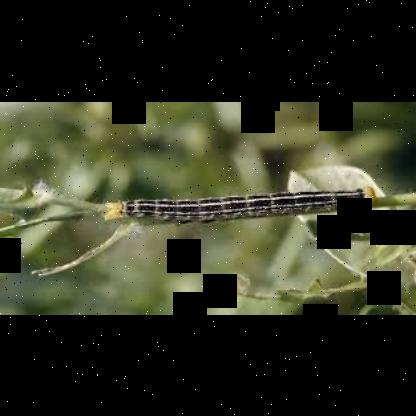oruga: (106, 184, 382, 221)
